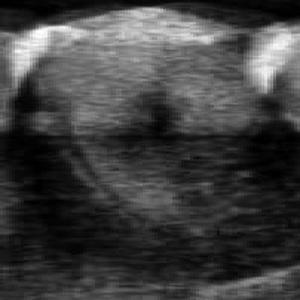tooth: (18, 5, 260, 248)
